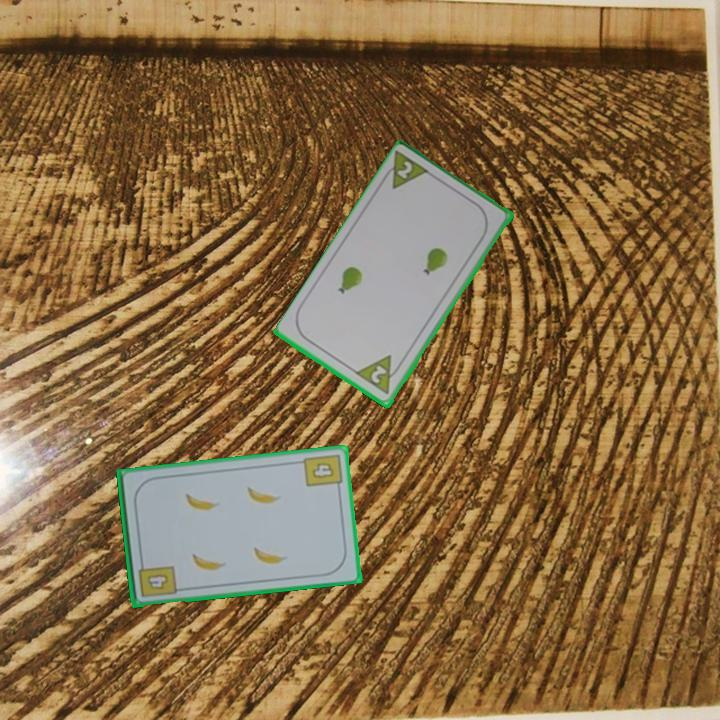2p: (377, 148, 434, 193), (353, 352, 406, 398)
4b: (300, 450, 345, 494), (134, 557, 179, 600)
